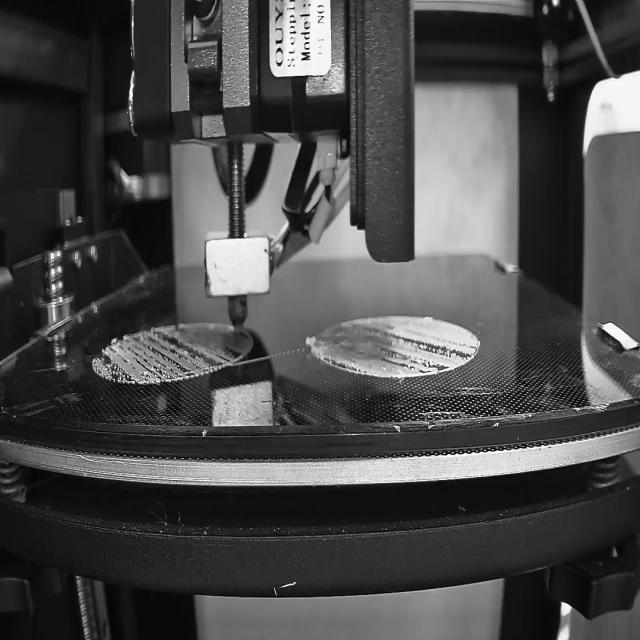under_extrusion: (323, 327, 479, 379), (94, 330, 248, 380)
